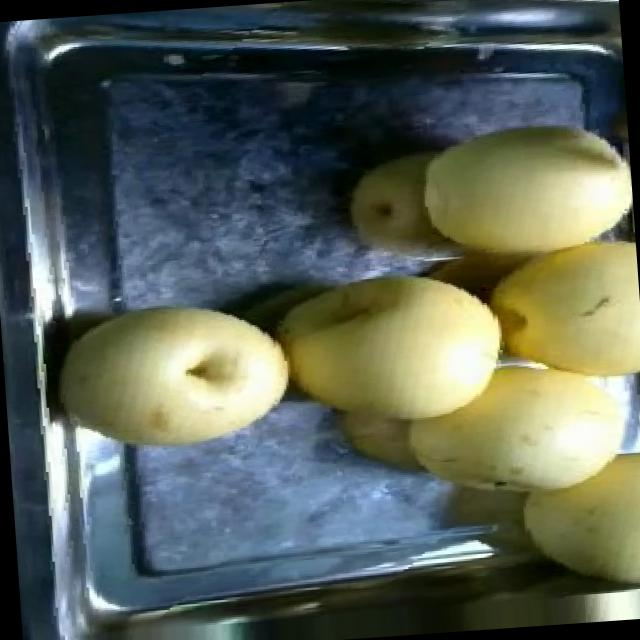Fruit: (235, 220, 536, 471), (390, 92, 638, 288), (43, 286, 310, 467), (416, 342, 640, 547), (452, 204, 640, 426), (500, 435, 640, 597)
